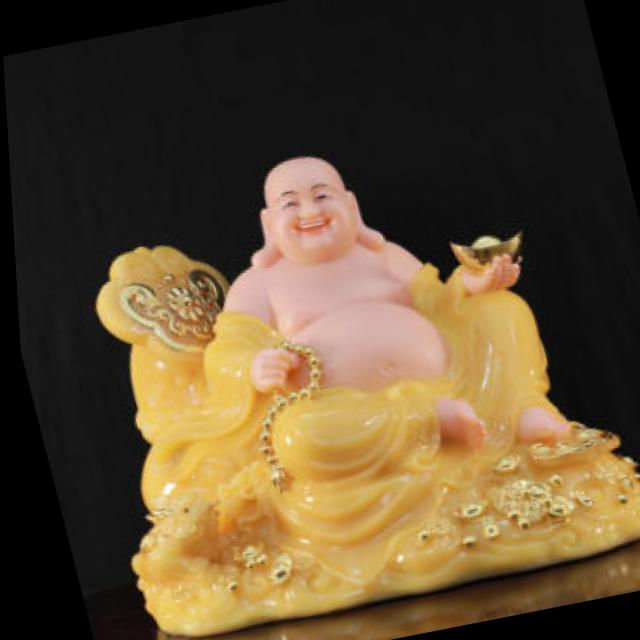Smiling Buddha: (152, 115, 575, 512)
